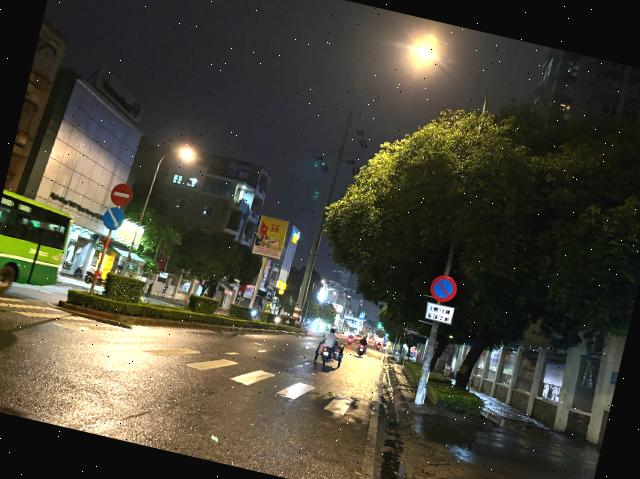cam-di-nguoc-chieu: (108, 179, 136, 209)
cam-do-xe: (427, 272, 459, 304)
huong-phai-di-vong-chuong-ngai-vat: (99, 203, 127, 232)
